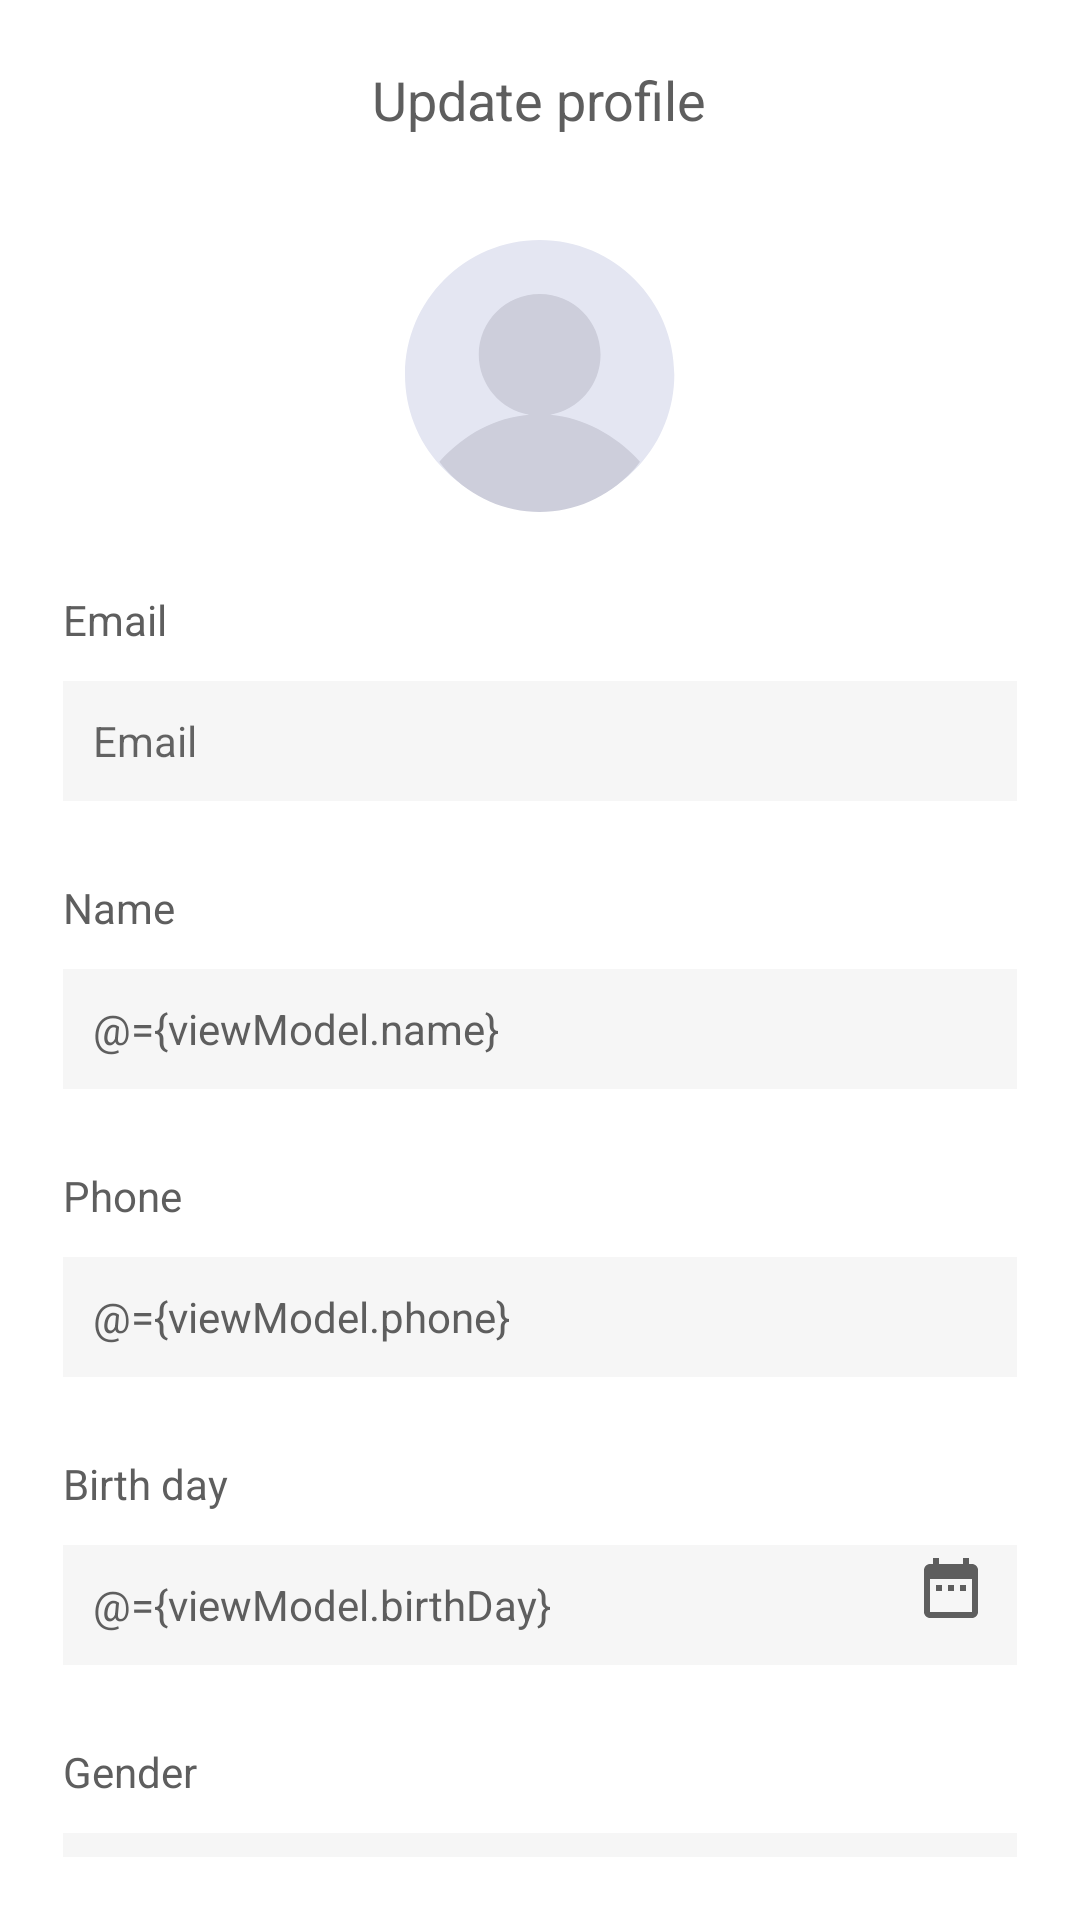

Icon click points for this 1080 × 1920 phone screenshot, format (x=x, y=y):
icon date: (x=951, y=1588)
